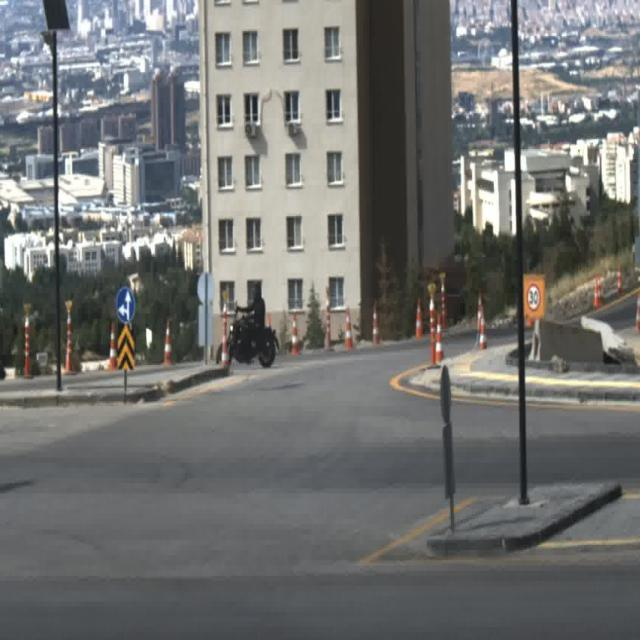Motorcycle: (217, 285, 279, 365)
